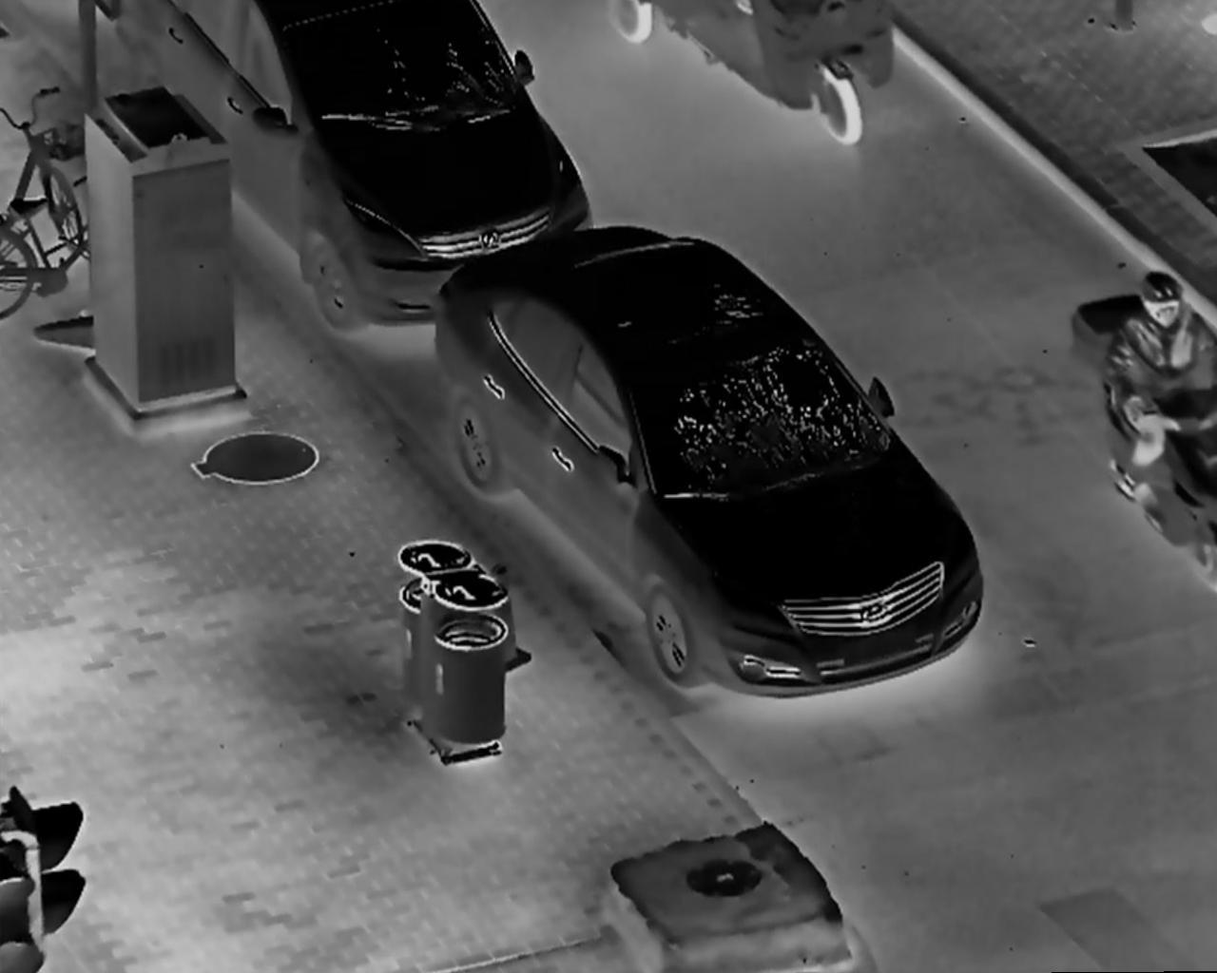person: (1102, 266, 1217, 511)
